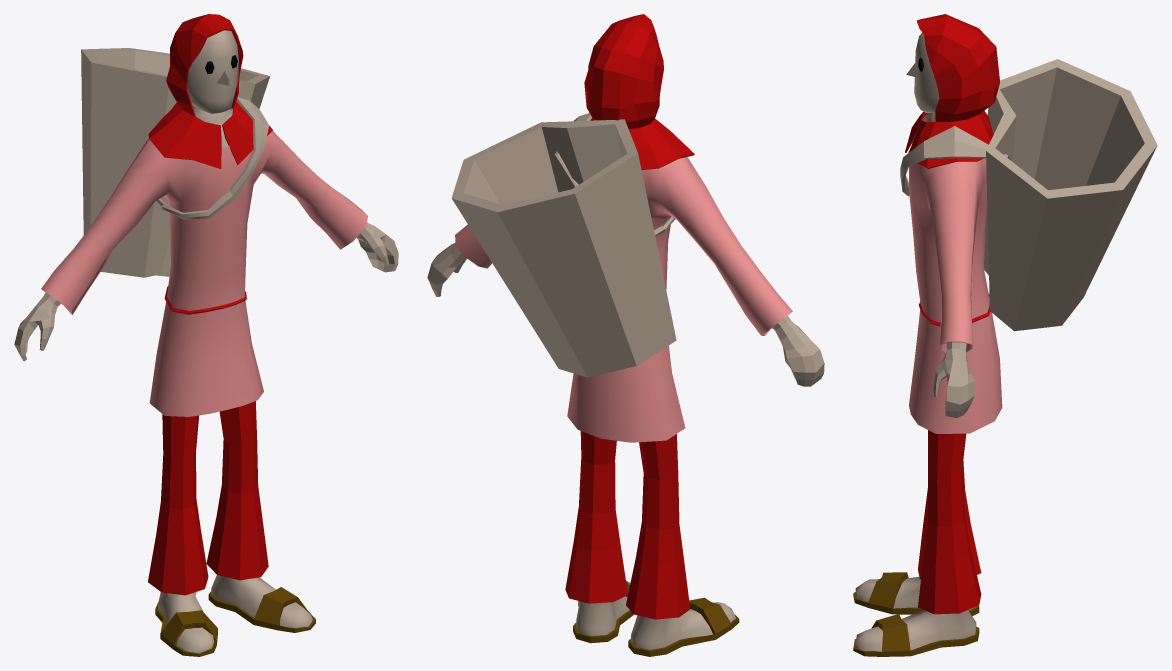
Rendered from villager_peasant.fbx.
3 views of the same model, side by side, from view 1: azimuth 30°, elevation 25°; view 2: azimuth 150°, elevation 25°; view 3: azimuth 270°, elevation 25° (orthographic). The views are drawn at different scales.
Parts seen in each view (by area): view 1: shirt, basket, pants, hood, head, foot_L, strap, sandal_L, foot_R, sandal_R, hand_R, hand_L; view 2: basket, shirt, pants, hood, foot_R, hand_R, sandal_R, foot_L, hand_L, sandal_L; view 3: basket, shirt, pants, hood, foot_L, strap, hand_L, sandal_L, sandal_R, head, foot_R.
Part boxes in pixels (box(x1,y1,x2,y2)): shirt: box(41, 107, 367, 416); basket: box(81, 48, 269, 277); pants: box(148, 401, 268, 595); hood: box(148, 14, 272, 168); head: box(187, 30, 238, 147); foot_L: box(211, 575, 312, 627); strap: box(156, 97, 269, 219); sandal_L: box(208, 587, 315, 632); foot_R: box(158, 592, 213, 653); sandal_R: box(155, 602, 217, 656); hand_R: box(14, 292, 61, 361); hand_L: box(356, 222, 398, 272); basket: box(451, 119, 676, 377); shirt: box(455, 157, 792, 442); pants: box(565, 431, 690, 619); hood: box(584, 14, 694, 169); foot_R: box(631, 602, 735, 649); hand_R: box(772, 316, 824, 386); sandal_R: box(628, 597, 739, 656); foot_L: box(576, 581, 630, 635); hand_L: box(427, 243, 466, 296); sandal_L: box(573, 580, 633, 643); basket: box(983, 59, 1157, 331); shirt: box(909, 113, 1002, 433); pants: box(918, 430, 981, 614); hood: box(905, 14, 999, 168); foot_L: box(855, 610, 976, 651); strap: box(900, 126, 1010, 196); hand_L: box(933, 342, 974, 418); sandal_L: box(853, 614, 979, 656); sandal_R: box(853, 572, 979, 615); head: box(914, 32, 939, 122); foot_R: box(855, 577, 975, 610).
Bounding box in the file's own units: 13.72 × 20.63 × 9.37.
